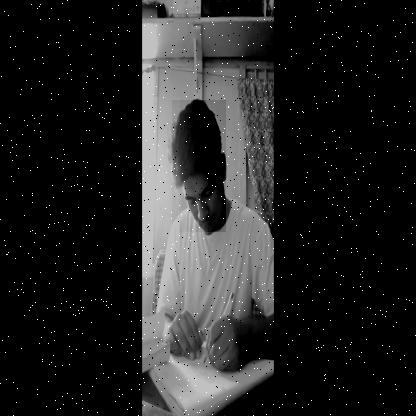Distracted: (172, 100, 226, 232)
